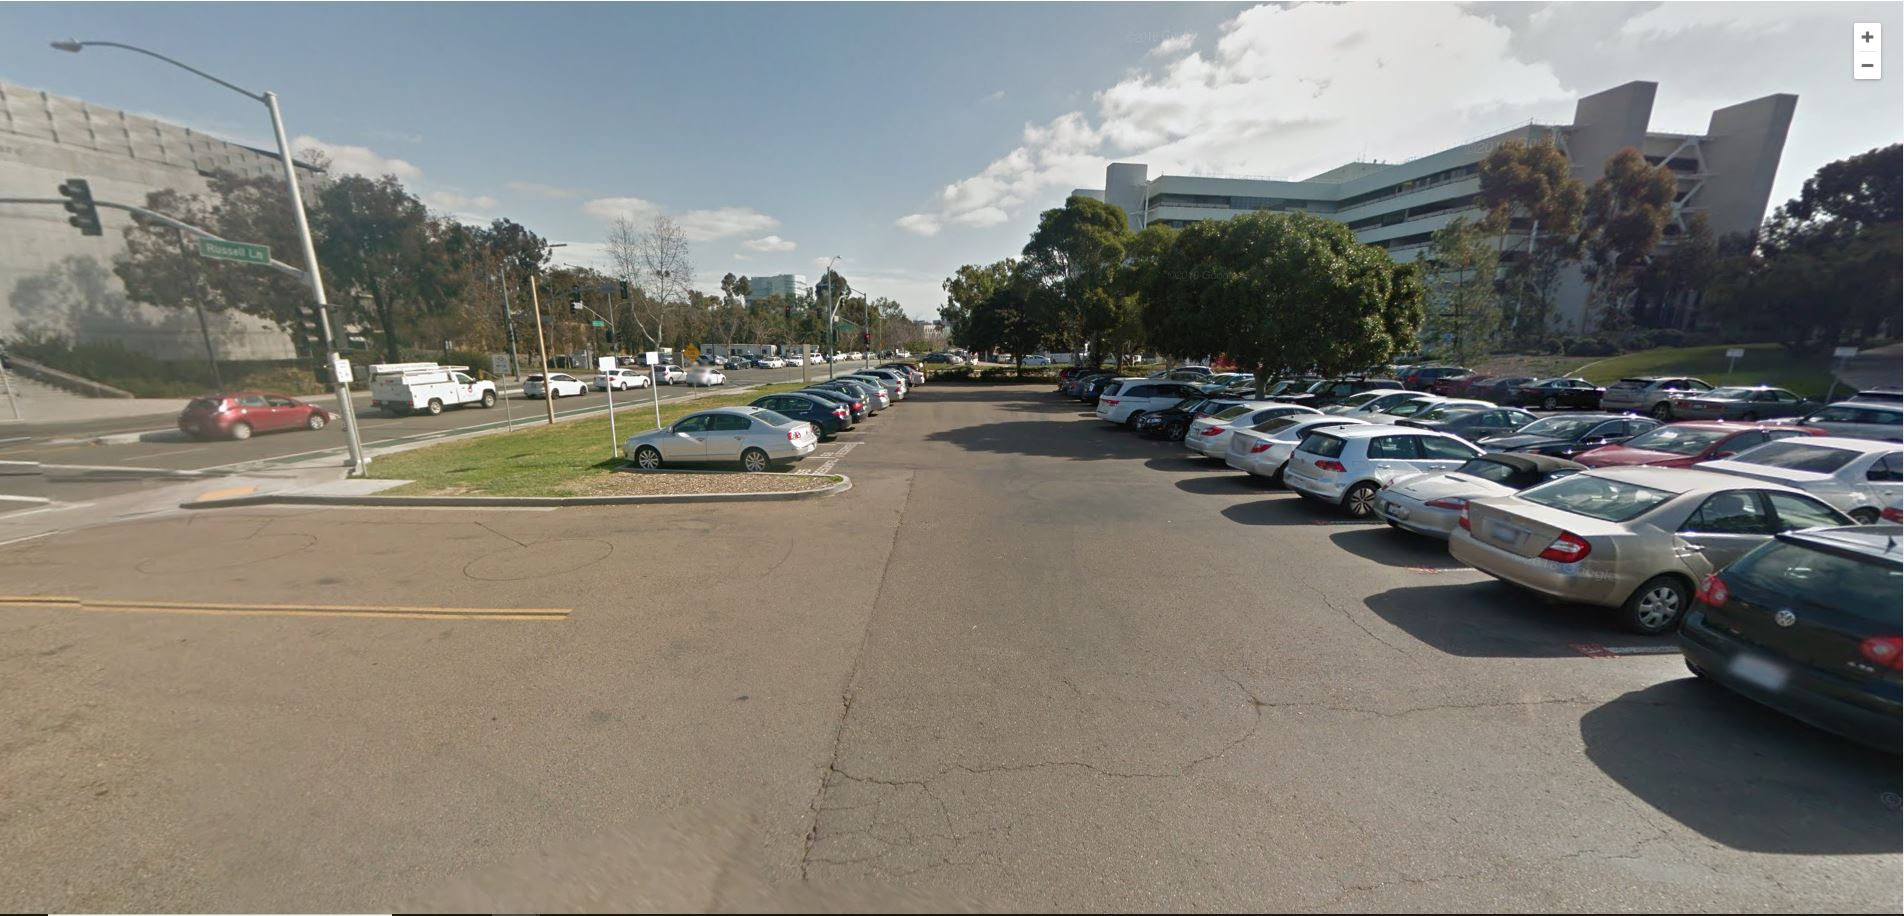car: (1446, 457, 1855, 620), (1681, 518, 1904, 746), (1708, 417, 1904, 533), (1287, 426, 1512, 511), (1379, 459, 1596, 541), (1594, 412, 1823, 475), (631, 409, 823, 475), (1228, 420, 1393, 490), (1184, 402, 1320, 462), (1095, 373, 1205, 426), (741, 396, 852, 436), (1523, 372, 1615, 407)
